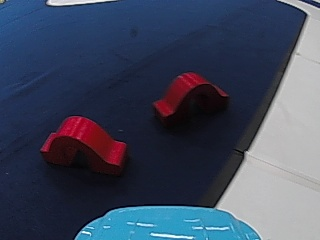bridge: (37, 110, 133, 174), (148, 71, 229, 129)
